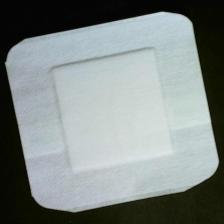Dressing: (6, 11, 221, 214)
